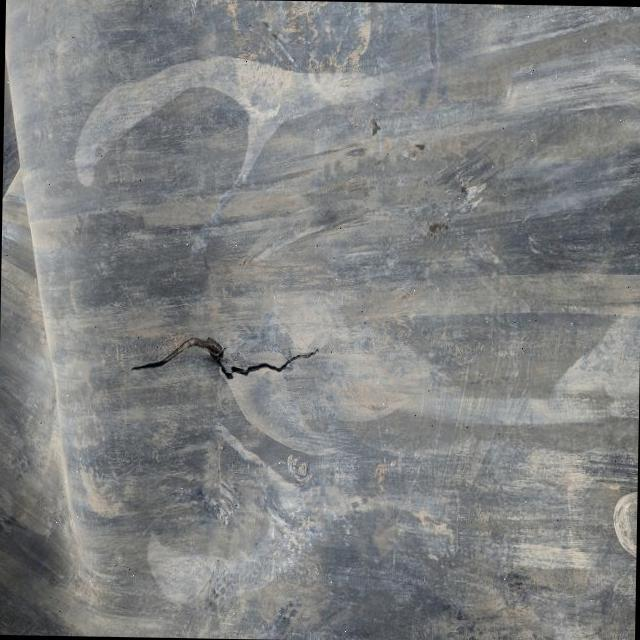Tear: (129, 332, 327, 379)
